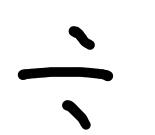div: (19, 27, 119, 129)
